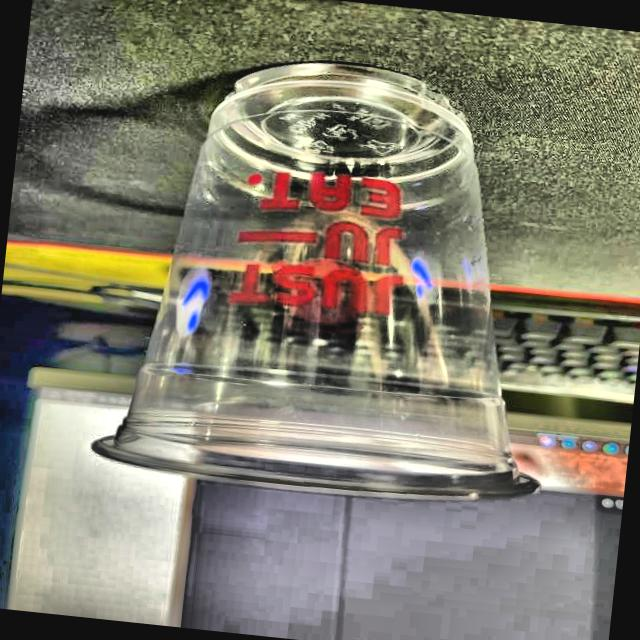plastic cup: (87, 38, 592, 515)
